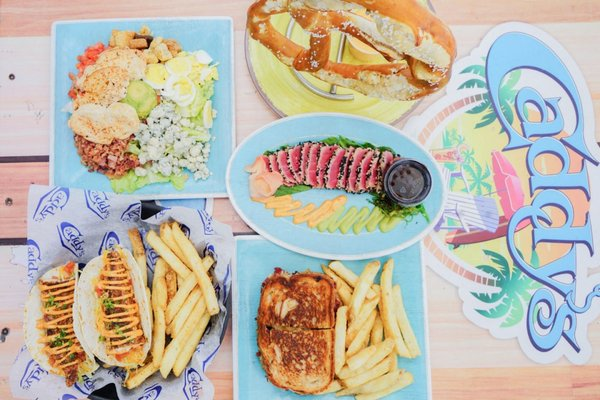soup: (255, 267, 339, 394)
sushi: (225, 111, 450, 262)
